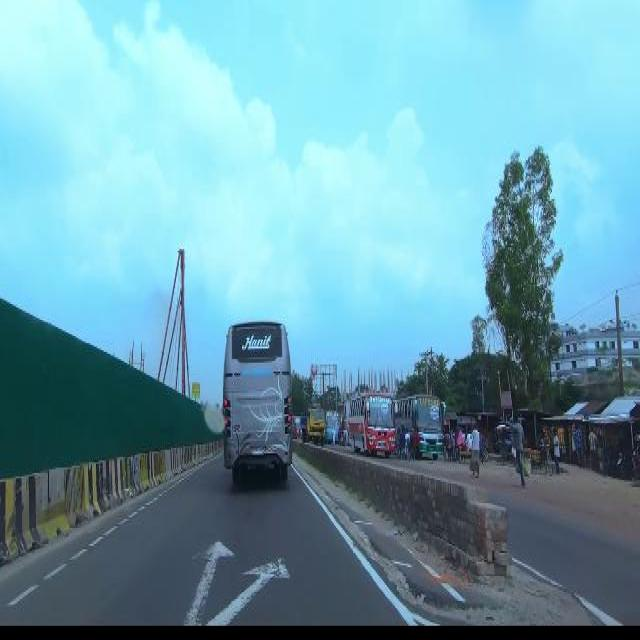bus: (222, 320, 290, 480), (396, 389, 446, 455), (348, 388, 394, 452), (324, 406, 340, 438), (292, 411, 300, 434)
motorbike: (616, 434, 638, 474), (483, 438, 489, 456)
truck: (300, 400, 324, 441)
